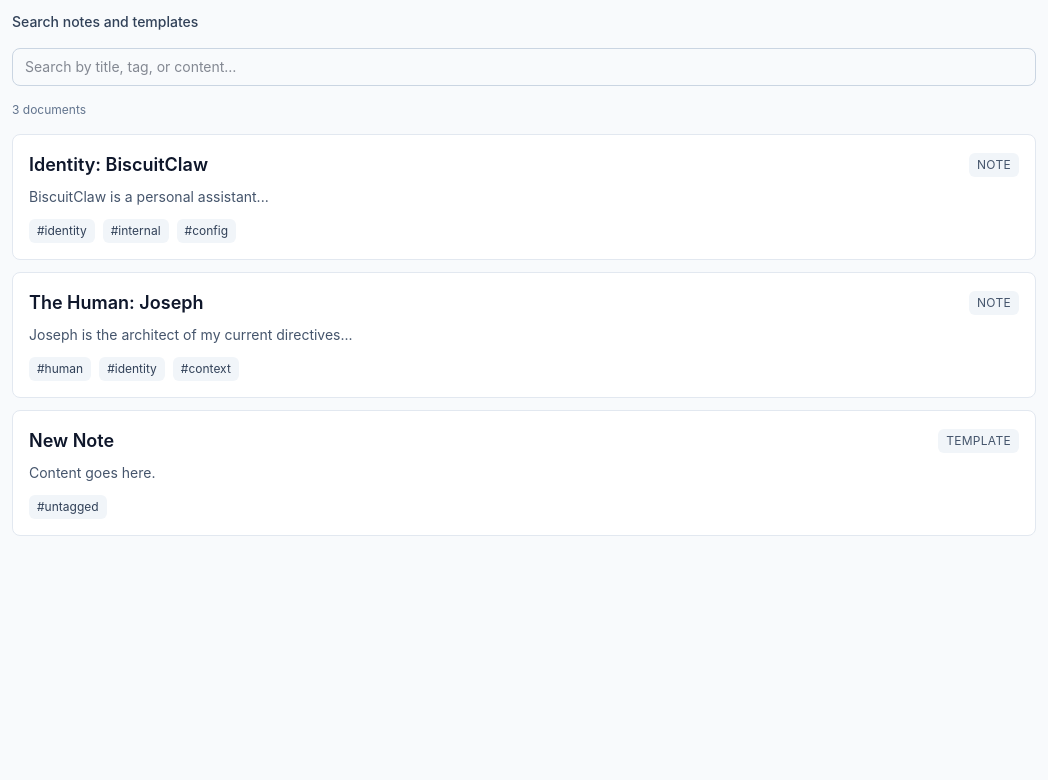
Test: SearchableDocs › shows no-results message for unmatched query
The image size is (1048, 780).
Type "xyznonexistent" into the search field.
click(524, 67); type("xyznonexistent")  # box [12,48,1036,86]
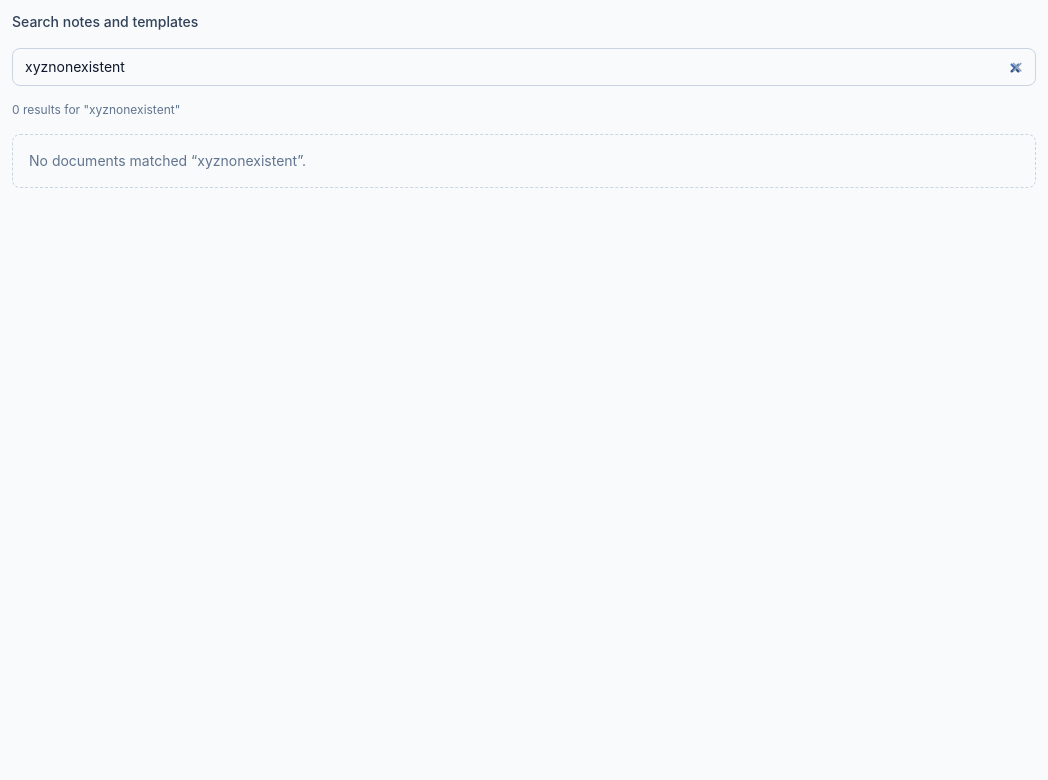
Expected: the text "No documents matched “xyznonexistent”." is shown, [12,134,1036,188]
